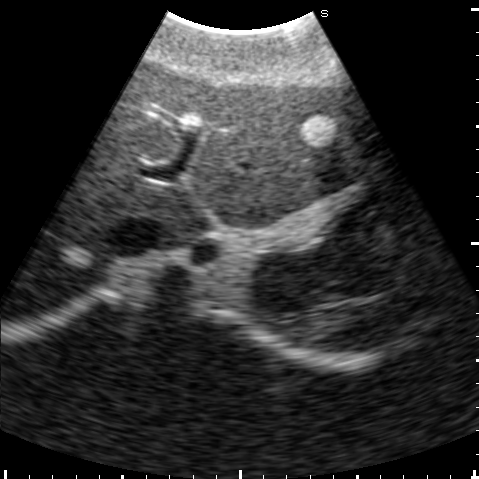IVC: (106, 217, 164, 257)
S1: (149, 189, 212, 246)
S2: (191, 139, 387, 230)
S3: (191, 76, 377, 189)
Tumor: (300, 117, 337, 146)
